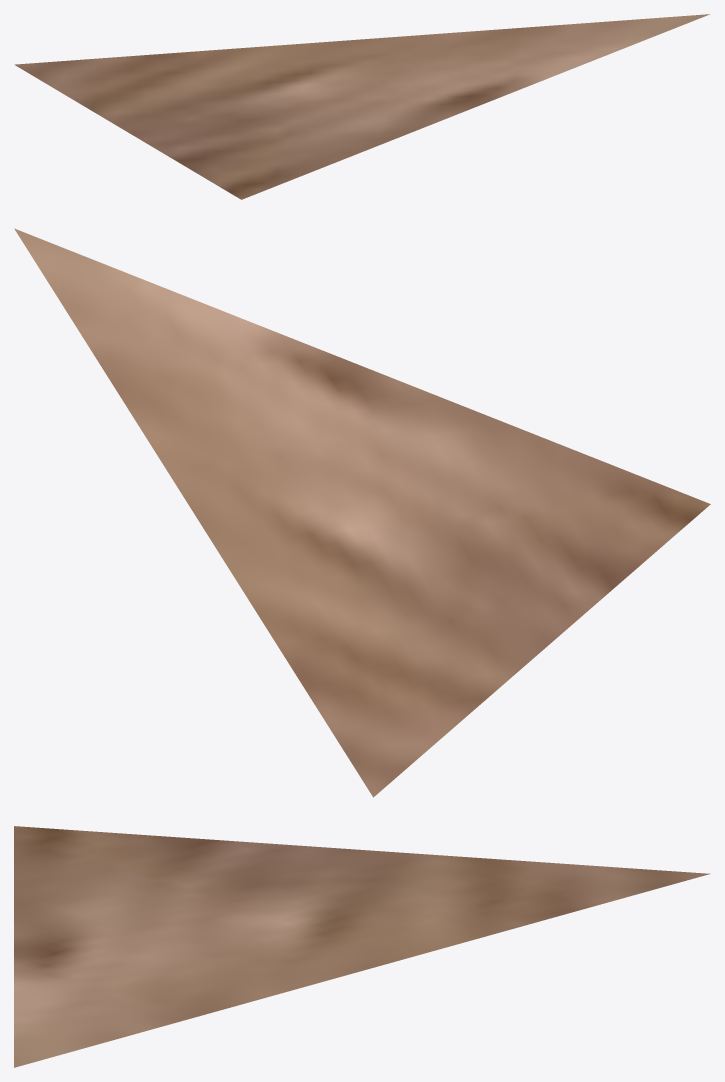
3 views of the same model, one above another, from view 1: azimuth 30°, elevation 25°; view 2: azimuth 150°, elevation 25°; view 3: azimuth 270°, elevation 25° (orthographic). The views are drawn at different scales.
Bounding box in the file's own units: 0.1619 × 0.0338 × 0.1358.
Materials: 1 (1 with a texture image).
